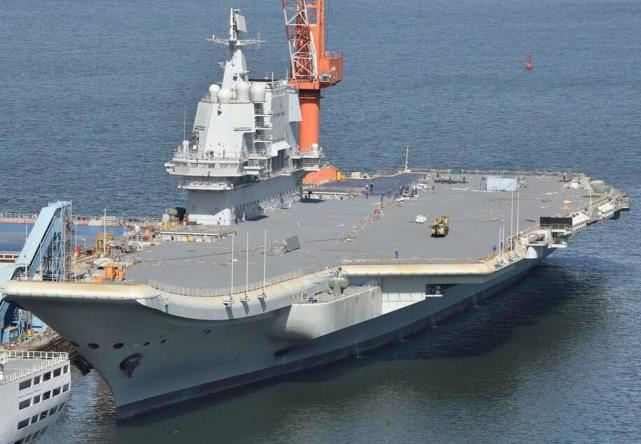warship: (2, 10, 630, 411)
